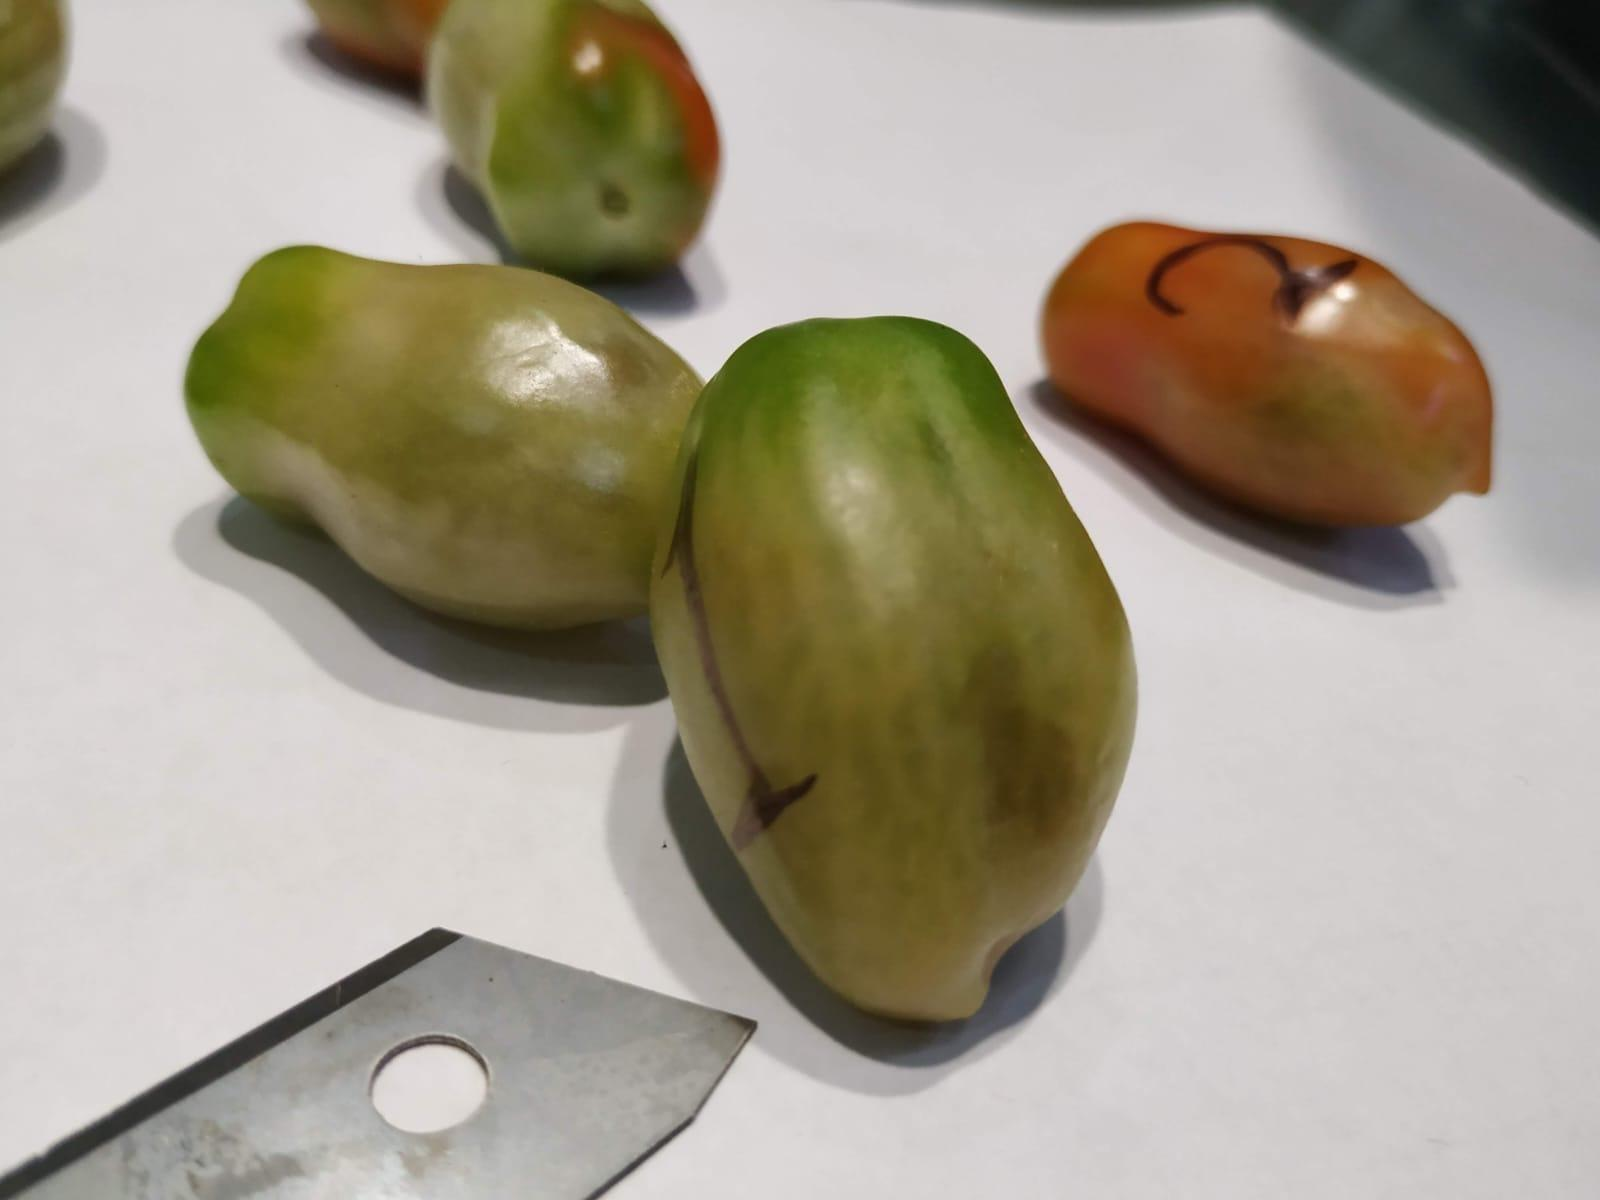Tomate Rugoso: (648, 315, 1136, 1021), (184, 247, 703, 628), (1043, 222, 1494, 524)
